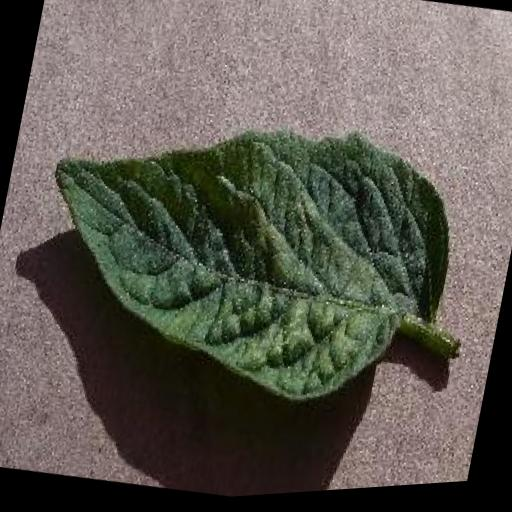Spider Mites: (14, 79, 474, 440)
